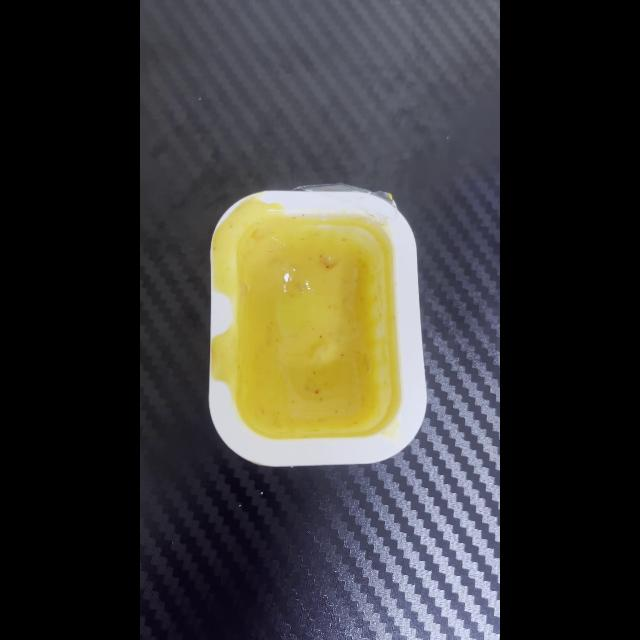dirty: (213, 196, 417, 464)
